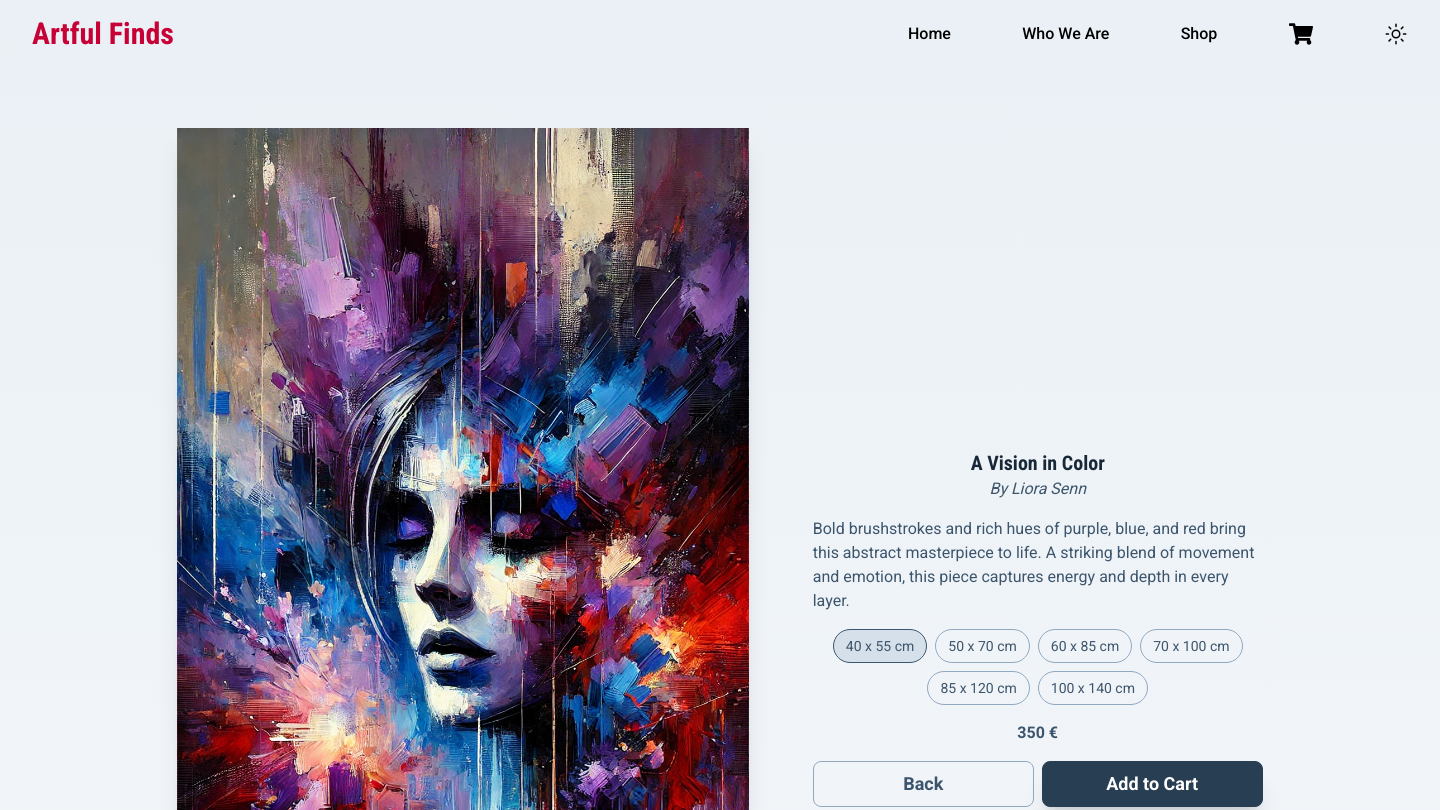
Test: <App /> › shows latest item modal when adding item to cart
Click the button with test id "add-to-cart-button" at [1152, 784], box [1042, 761, 1263, 807]
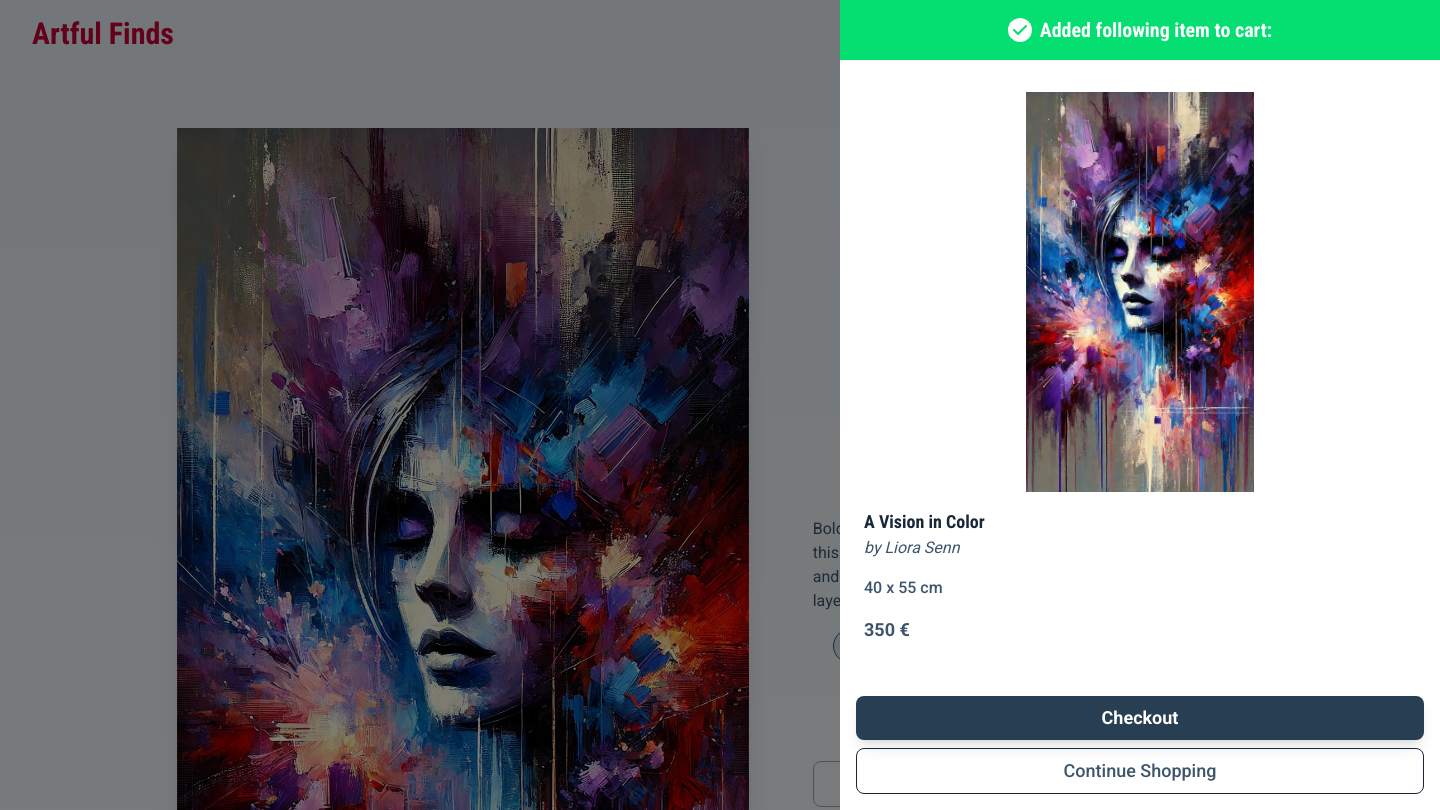
Check: the element with test id "latest-item-modal" is shown, box [840, 0, 1439, 809]
